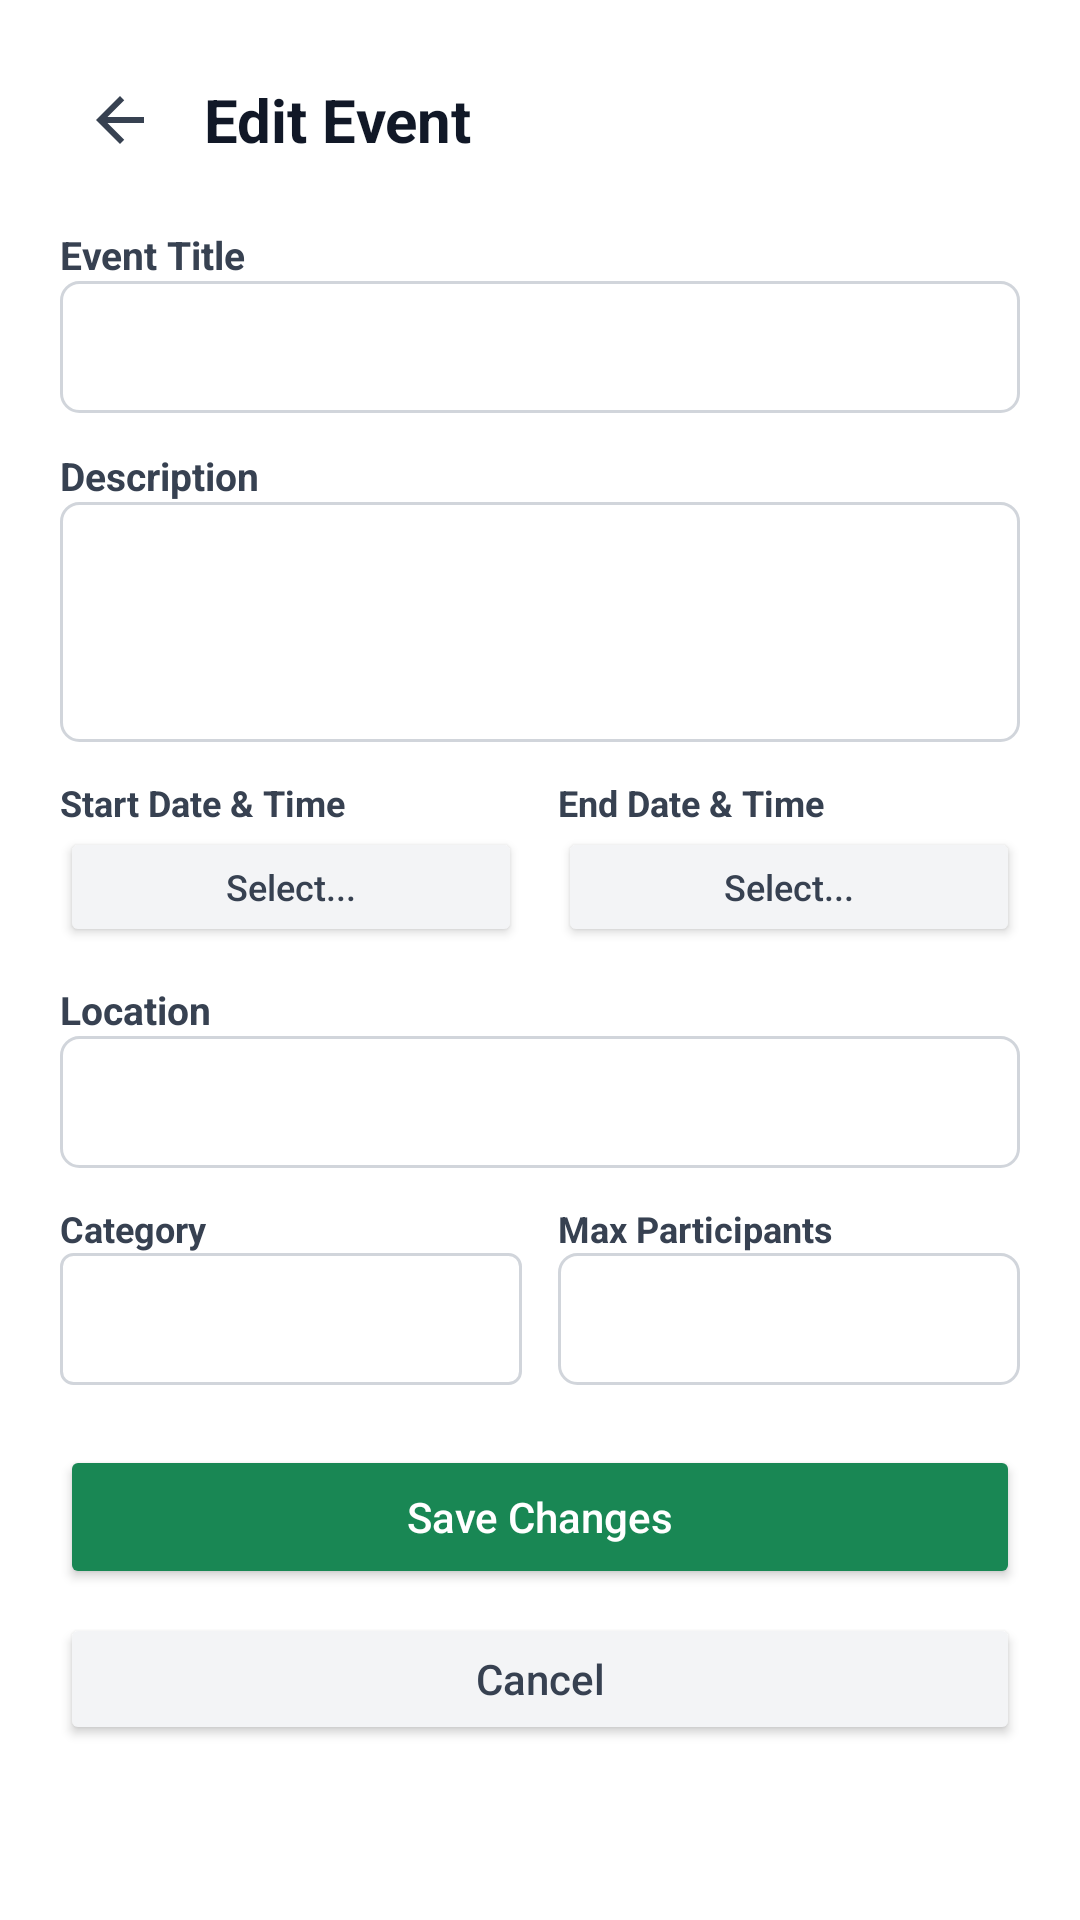

Named icons in this screenshot (1080*1920) and their centers, (x=x, y=y):
arrow back: (x=120, y=120)
